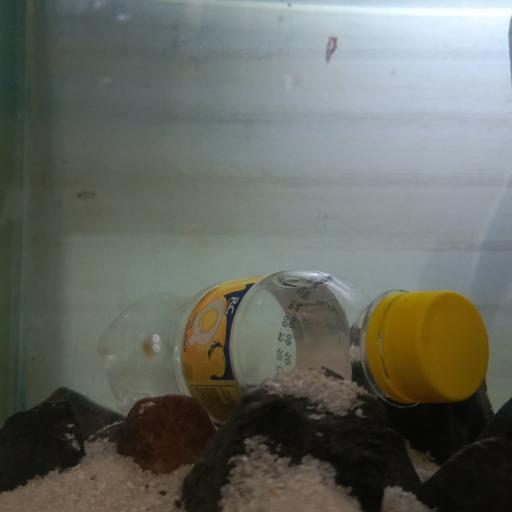bottle_cap: (386, 291, 495, 402)
plastic_bottle: (94, 268, 493, 404)
